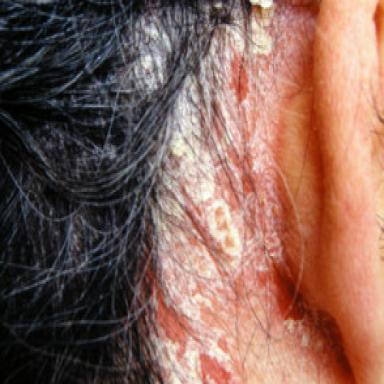eczema: (149, 3, 343, 381), (133, 15, 173, 93)
